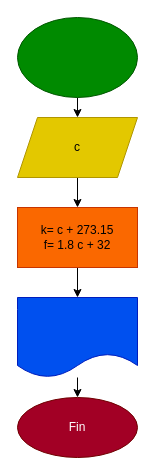
This 155x475 diagram has some shape labels left out. Each missing label, with the centre of its shape:
"f,k" goes at (77,337).
"Inicio" goes at (77,57).
